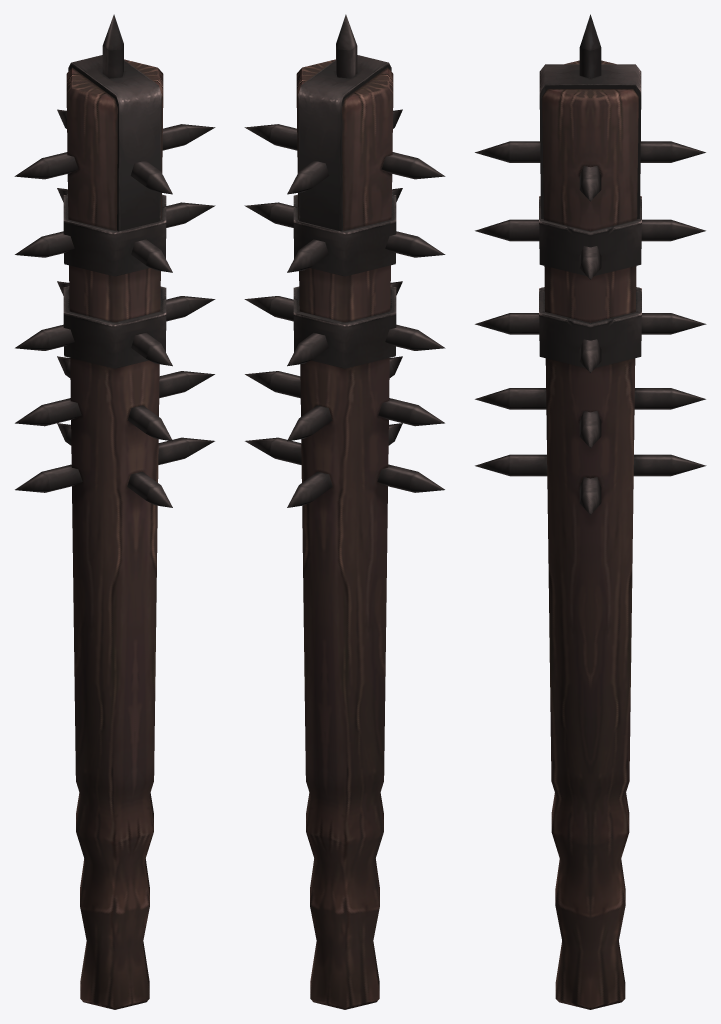
File: 79_weapon.FBX
The picture shows the model from 3 angles, left to right: view 1: azimuth 30°, elevation 25°; view 2: azimuth 150°, elevation 25°; view 3: azimuth 270°, elevation 25°; orthographic projection.
Parts seen in each view (by area): view 1: 79_weapon; view 2: 79_weapon; view 3: 79_weapon.
Boxes of the visible parts, <box> form: 79_weapon: <box>14,14,215,1009</box>; 79_weapon: <box>244,14,445,1009</box>; 79_weapon: <box>475,14,706,1009</box>.
Bounding box in the file's own units: 459 × 2138 × 459.
